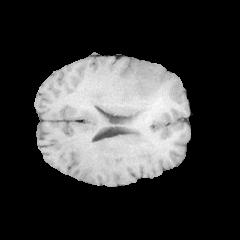glioma: (72, 60, 177, 143)
